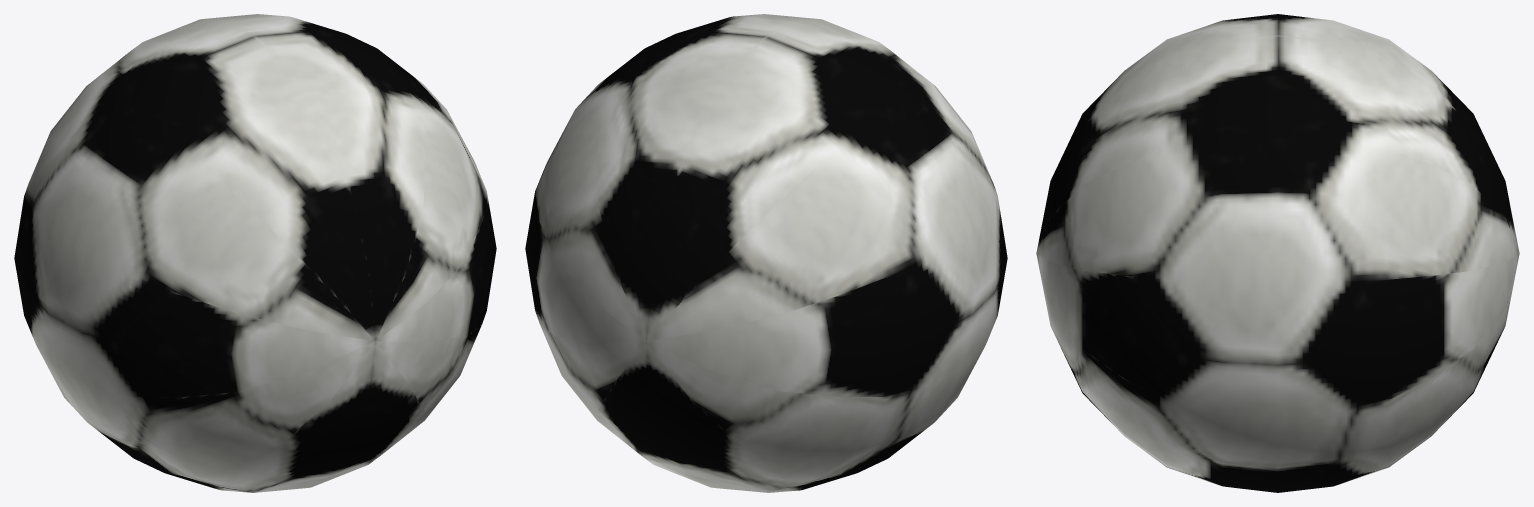
Rendered from SiWangPenQuan_01_zuqiu_01_UV2.FBX.
The picture shows the model from 3 angles, left to right: view 1: azimuth 30°, elevation 25°; view 2: azimuth 150°, elevation 25°; view 3: azimuth 270°, elevation 25°; orthographic projection.
Visible parts, largest first — view 1: SiWangPenQuan_01_zuqiu_01_UV2; view 2: SiWangPenQuan_01_zuqiu_01_UV2; view 3: SiWangPenQuan_01_zuqiu_01_UV2.
Part boxes in pixels (bbox=[...]): SiWangPenQuan_01_zuqiu_01_UV2: bbox=[14, 14, 496, 492]; SiWangPenQuan_01_zuqiu_01_UV2: bbox=[525, 14, 1007, 492]; SiWangPenQuan_01_zuqiu_01_UV2: bbox=[1036, 14, 1519, 492].
Bounding box in the file's own units: 125 × 125 × 125.
